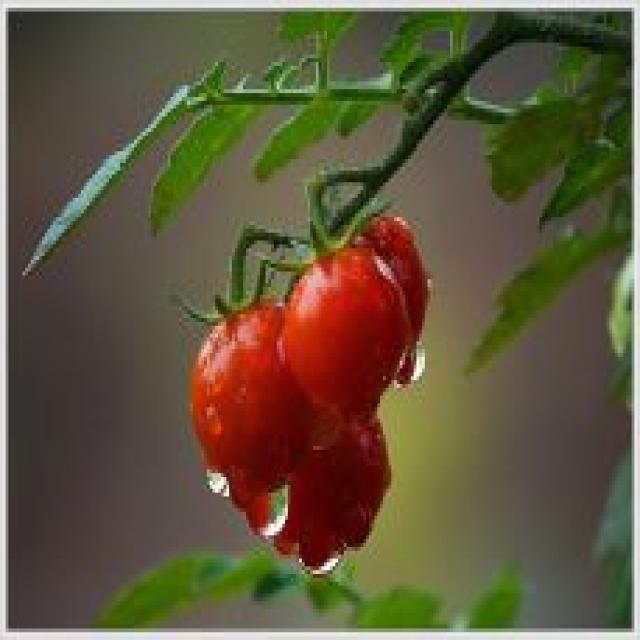level 6: (166, 301, 334, 471), (278, 244, 426, 434), (245, 398, 401, 573), (330, 206, 458, 349)
